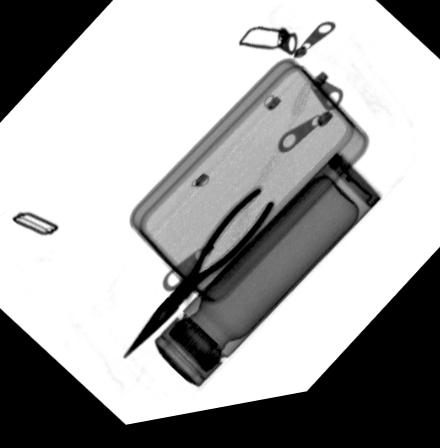Pliers: (120, 196, 276, 365)
